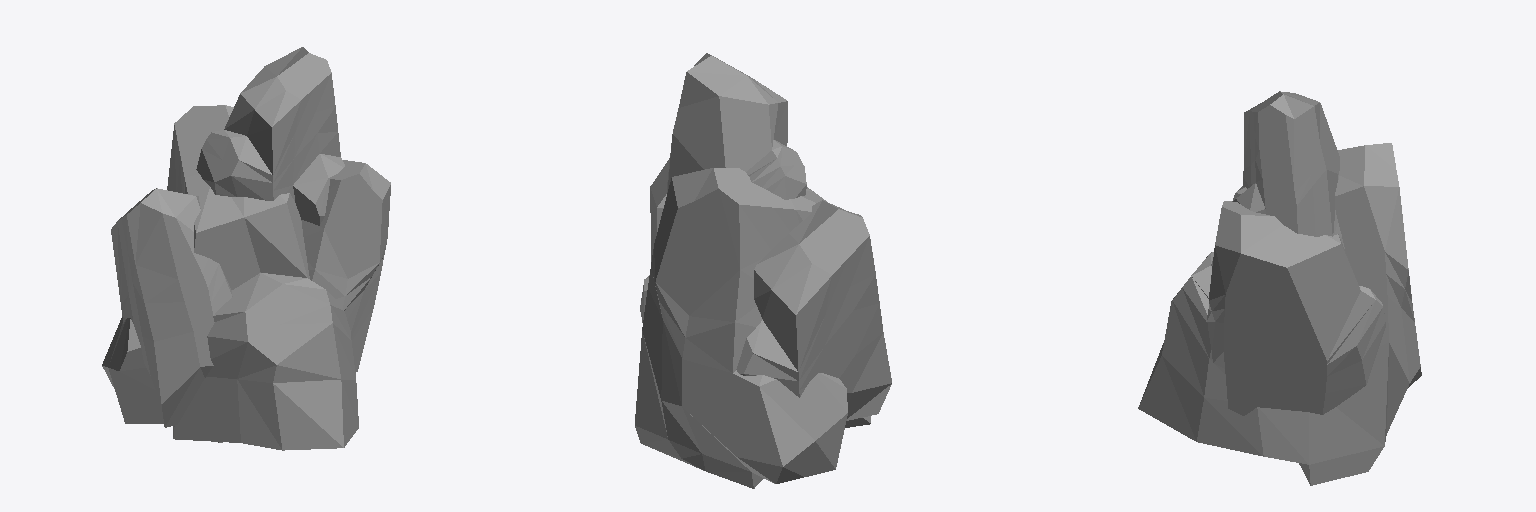
The model's file is Rock_3.obj.
3 renders of one model, left to right at view 1: azimuth 30°, elevation 25°; view 2: azimuth 150°, elevation 25°; view 3: azimuth 270°, elevation 25°, orthographic.
Parts seen in each view (by area): view 1: Rock_3_Cube.004; view 2: Rock_3_Cube.004; view 3: Rock_3_Cube.004.
Boxes of the visible parts, box(x1,y1,x2,y2) form: Rock_3_Cube.004: box(102, 47, 390, 450); Rock_3_Cube.004: box(635, 53, 891, 488); Rock_3_Cube.004: box(1138, 91, 1421, 485).
Bounding box in the file's own units: 0.8436 × 1.31 × 0.8972.